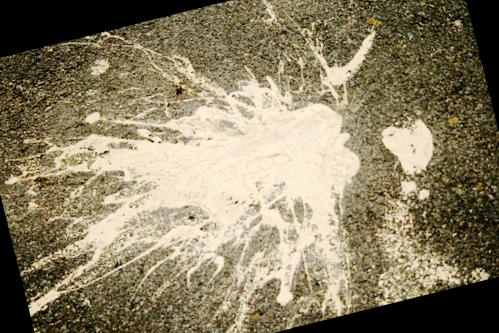Bird Poop: (5, 48, 358, 333), (378, 162, 459, 304), (298, 23, 373, 103), (380, 119, 432, 173), (90, 59, 108, 74), (84, 111, 99, 123)
